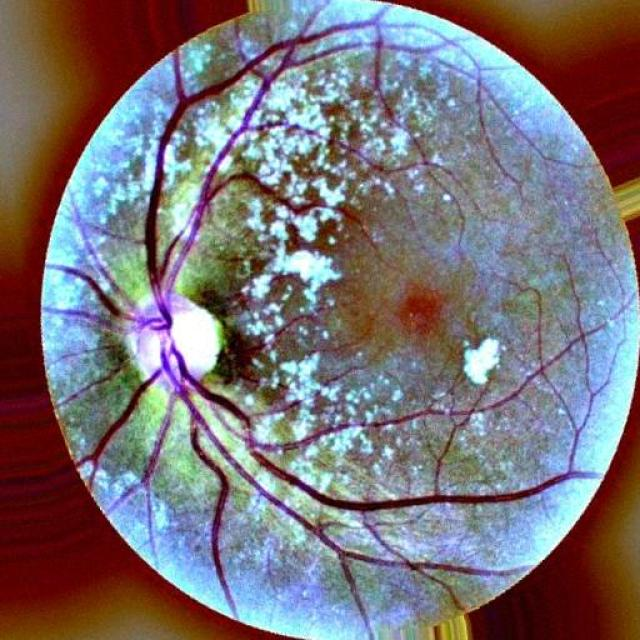Macula: (392, 284, 450, 341)
Nerves: (156, 349, 453, 629), (145, 20, 377, 335), (182, 372, 590, 514), (166, 118, 470, 285), (251, 342, 389, 416)
Optic Disk: (112, 286, 228, 397)
